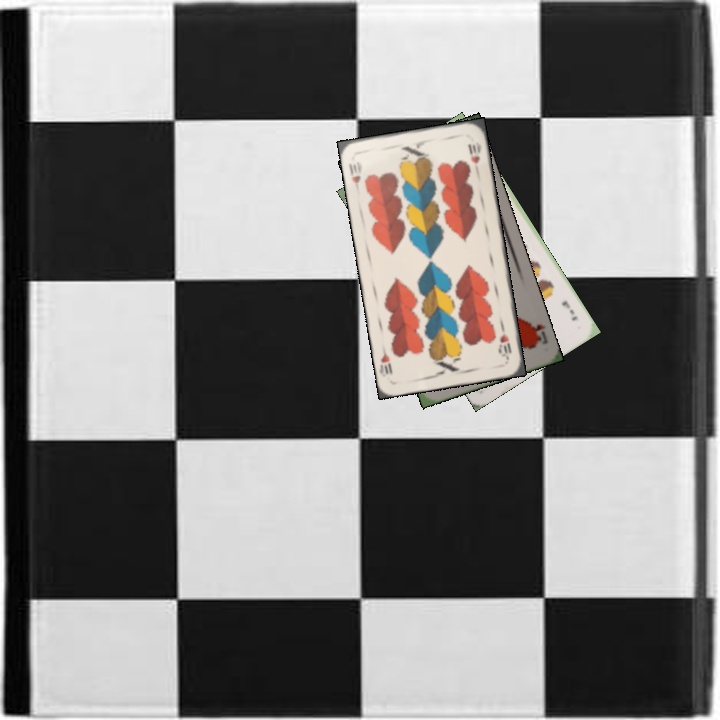E7: (557, 296, 580, 323)
H10: (345, 157, 365, 195), (496, 321, 514, 361)
HO: (525, 318, 550, 350)
